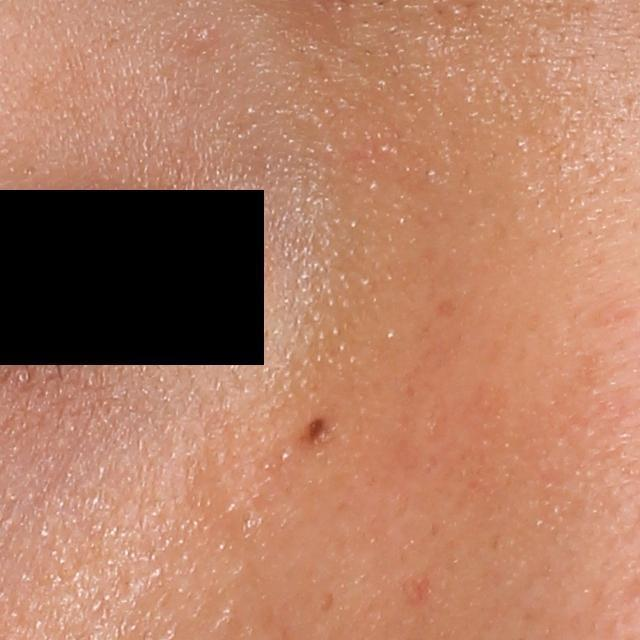comedo: (196, 27, 213, 47)
nevus: (300, 417, 326, 445)
